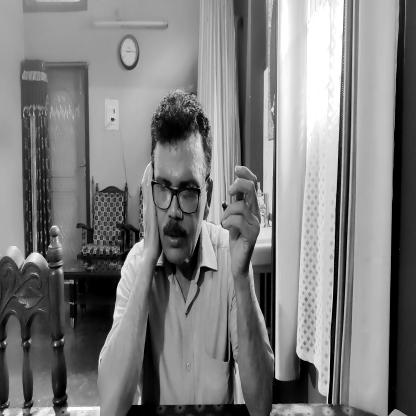Normal: (148, 93, 213, 273)
